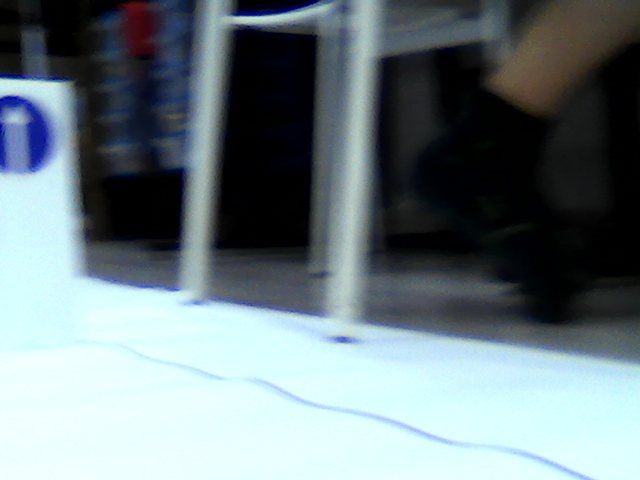forw: (1, 95, 48, 174)
